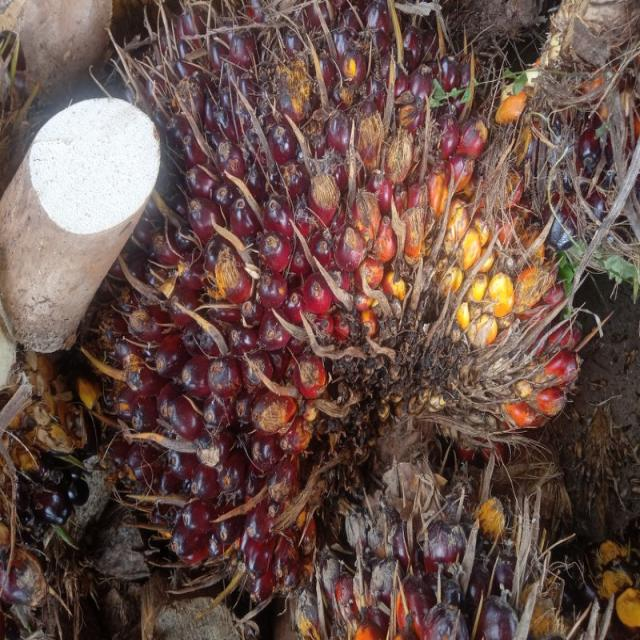fraksi 1: (90, 27, 583, 602)
